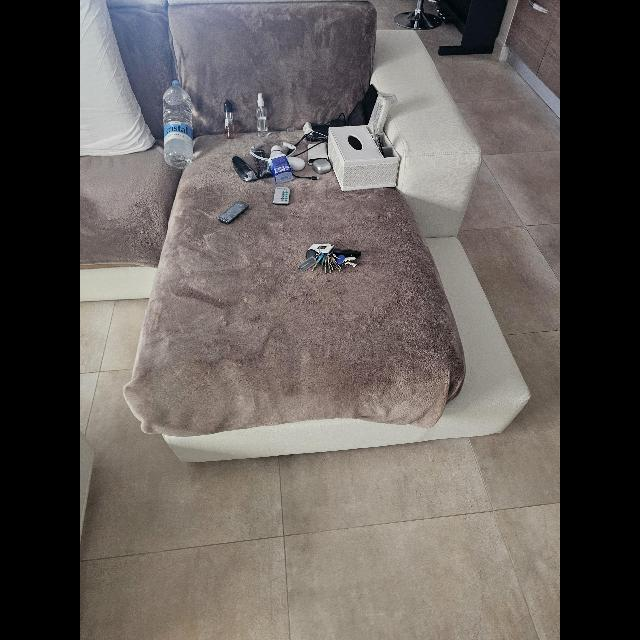Keys: (298, 242, 360, 274)
